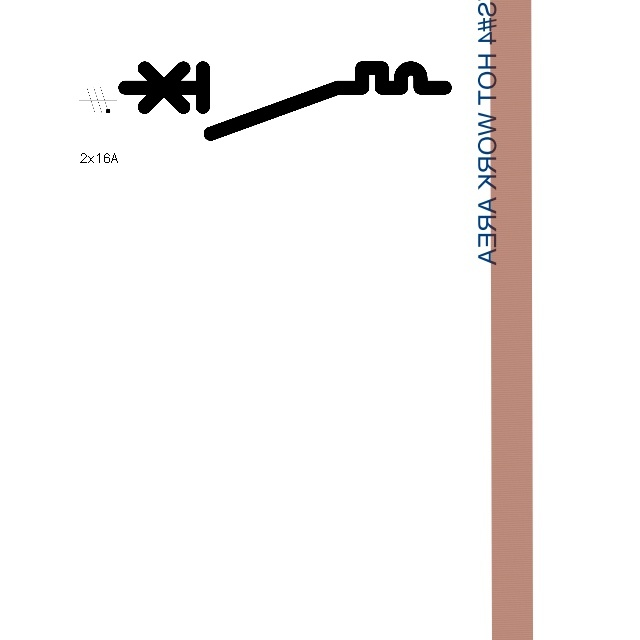interruptor_termomagnetico: (117, 60, 453, 142)
